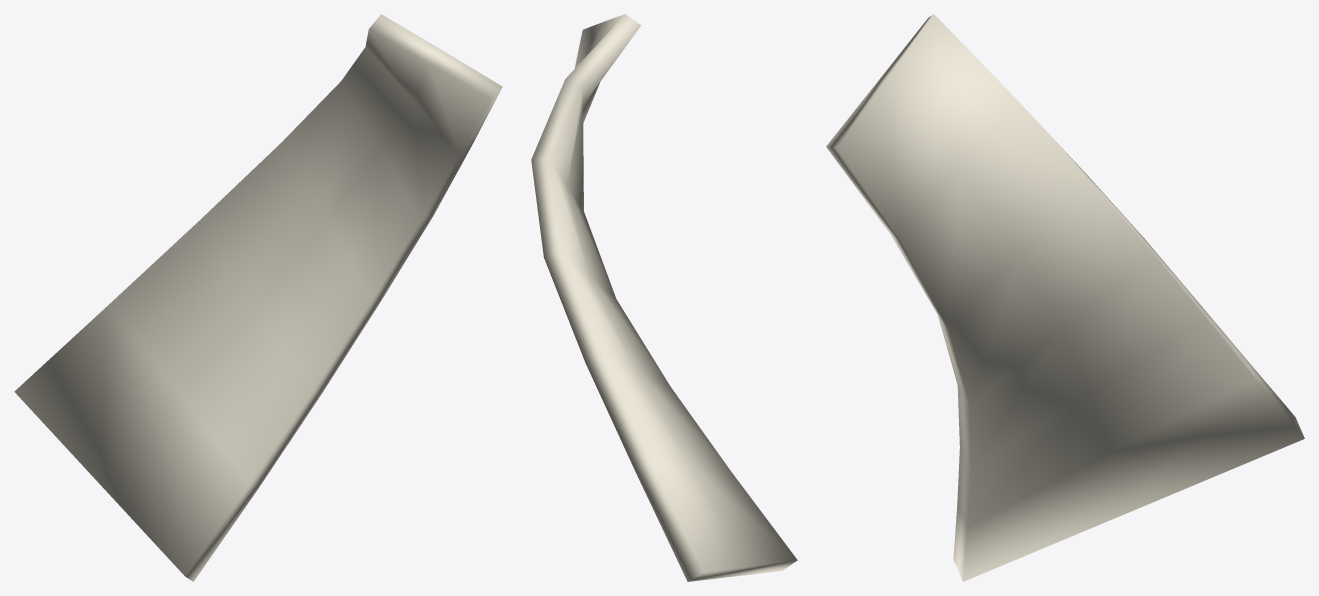
The picture shows the model from 3 angles, left to right: view 1: azimuth 30°, elevation 25°; view 2: azimuth 150°, elevation 25°; view 3: azimuth 270°, elevation 25°; orthographic projection. The views are drawn at different scales.
Visible parts, largest first — view 1: ZA_27e2fdd1fcca1991; view 2: ZA_27e2fdd1fcca1991; view 3: ZA_27e2fdd1fcca1991.
Part boxes in pixels (<box>): ZA_27e2fdd1fcca1991: <box>14,14,502,581</box>; ZA_27e2fdd1fcca1991: <box>531,14,797,581</box>; ZA_27e2fdd1fcca1991: <box>826,14,1304,581</box>.
Size of the model in its own units: 0.00865 by 0.0143 by 0.00918.
